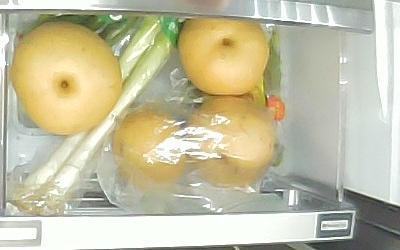pear: (11, 20, 122, 135), (177, 17, 270, 95)
pear_vinyl: (186, 97, 277, 187), (111, 107, 187, 187)
